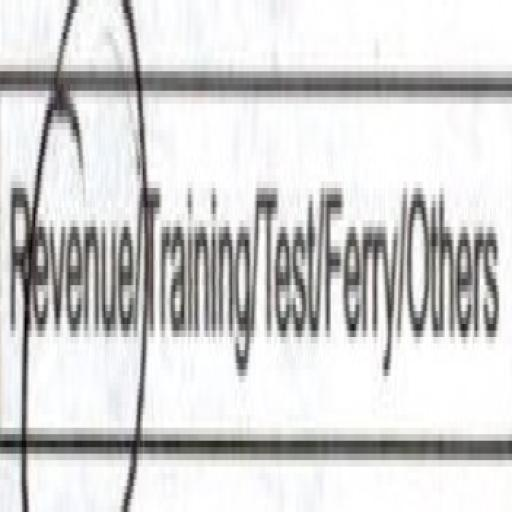check: (0, 35, 136, 512)
